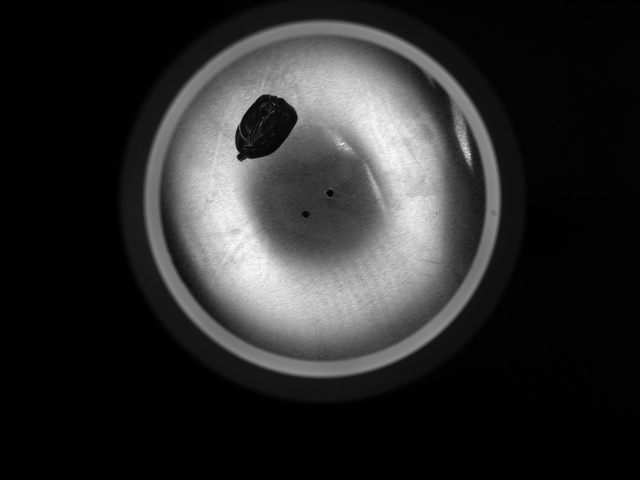zang_wu: (233, 94, 300, 163)
zhen_kong: (323, 186, 336, 199), (300, 209, 311, 219)
